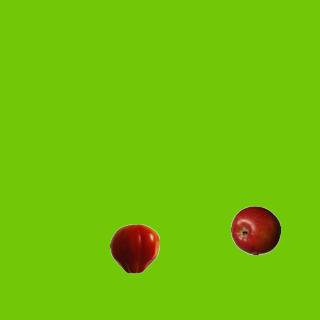Apple Braeburn: (230, 205, 280, 255)
Tomato 1: (109, 223, 159, 273)
